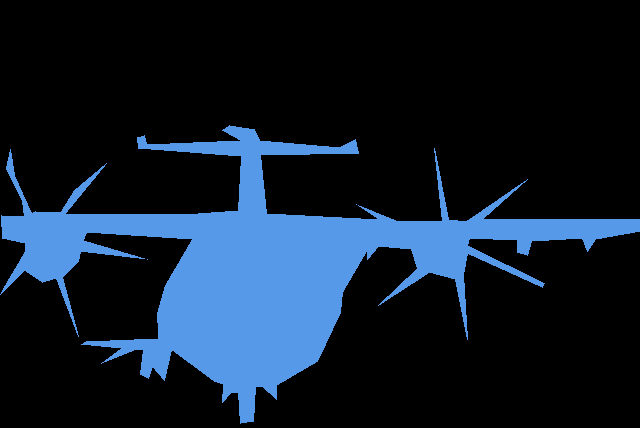Airplane: (0, 125, 640, 424)
